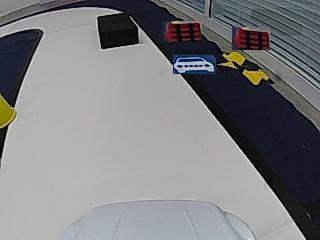block: (97, 13, 138, 48)
cone: (0, 94, 17, 127)
